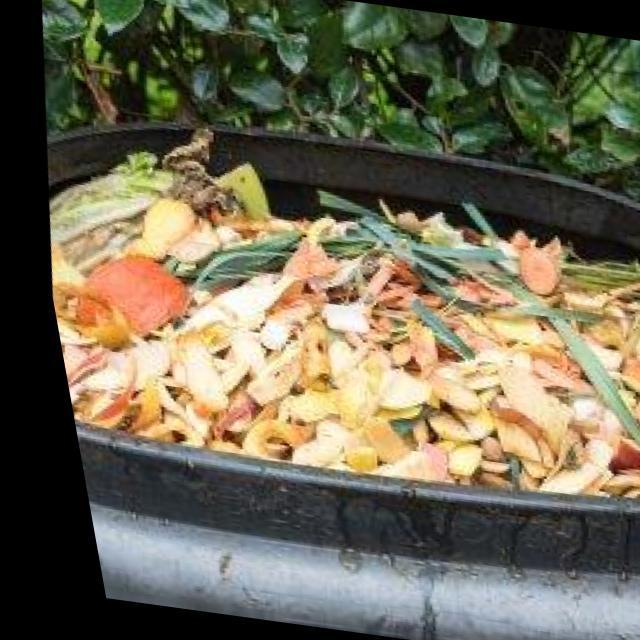Garbage: (42, 130, 640, 499)
